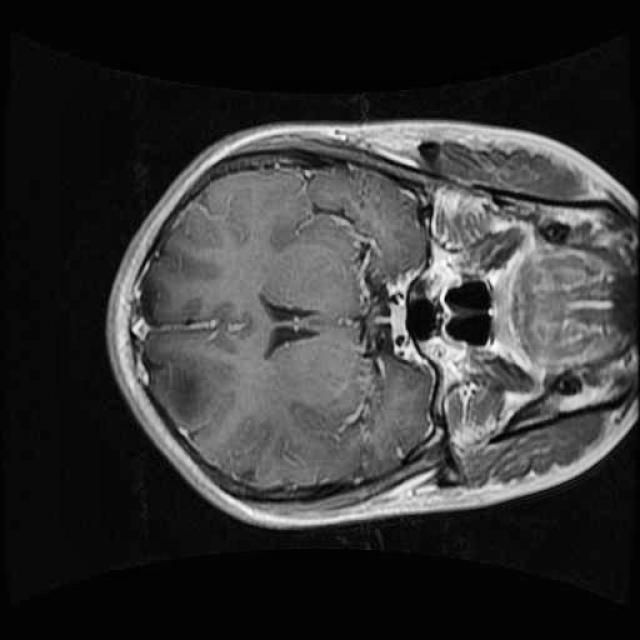Tumor: (136, 338, 252, 444)
